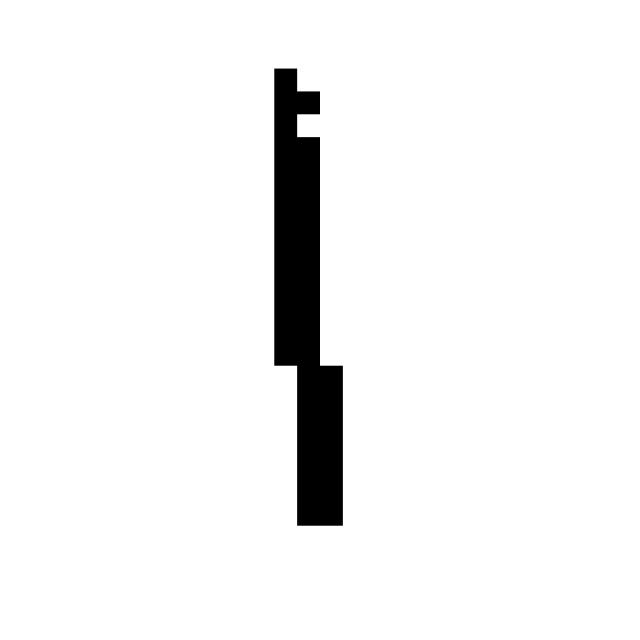1 -one-: (245, 45, 366, 548)
